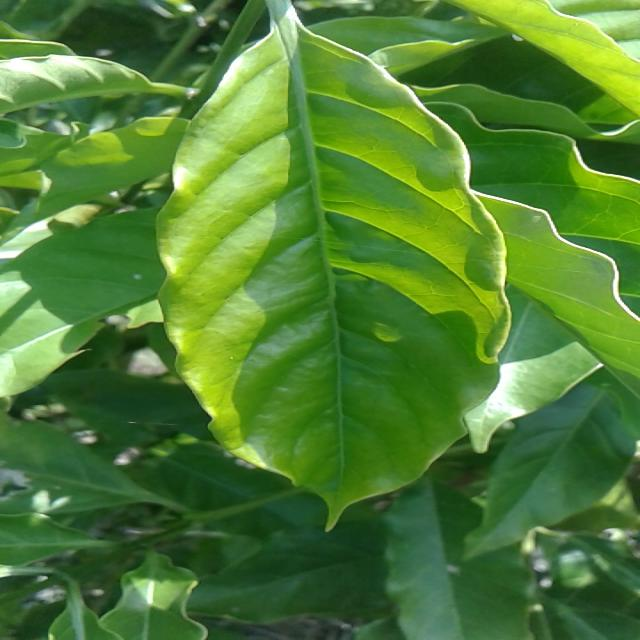Sanas: (155, 20, 514, 530)
